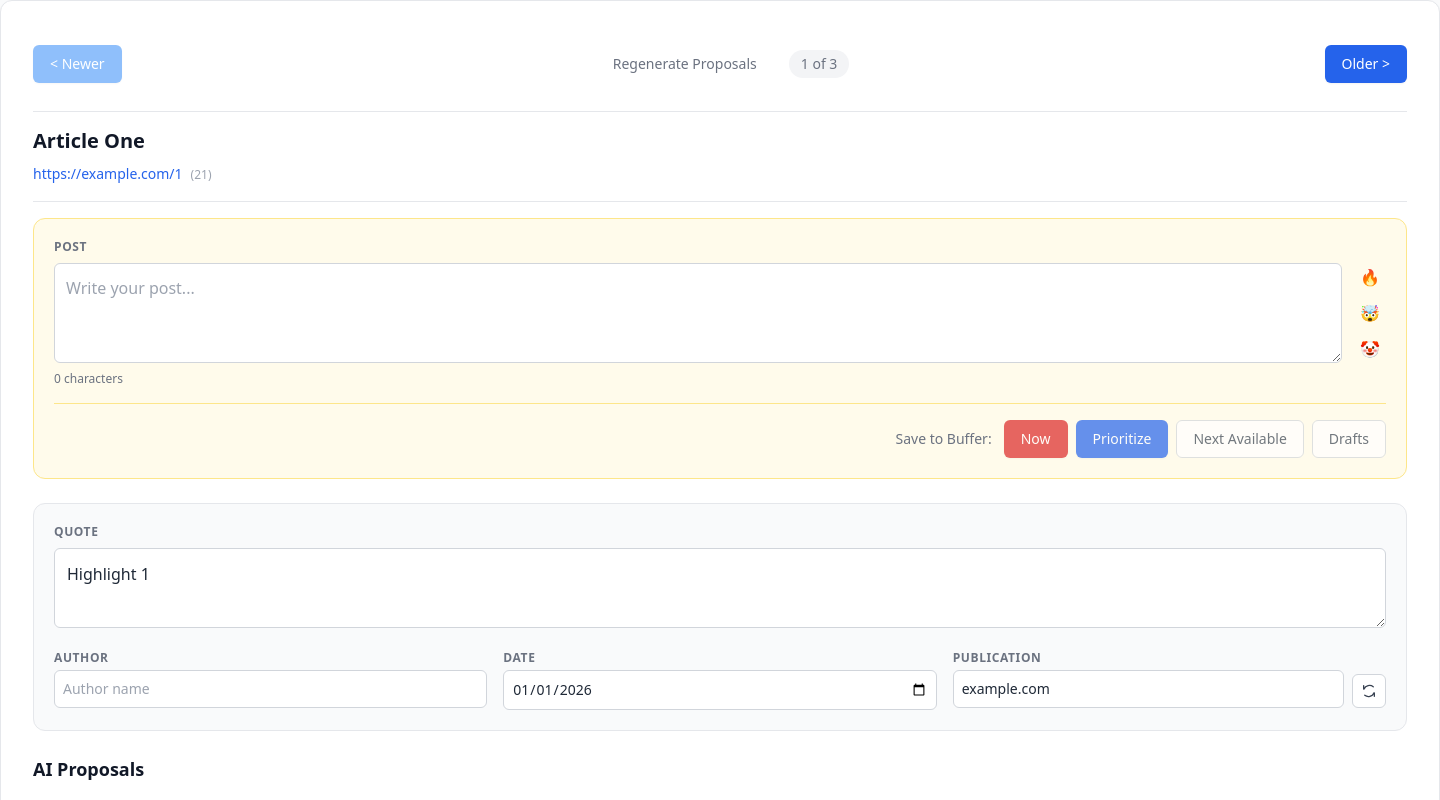
Scenario: PostPage — scaffold + navigation › advances to next article when Older is clicked
Expected: the heading "Article One" is shown, [33,127,145,154]
Step 1. Click the button "Older >" → (1366, 64), box [1324,45,1407,83]
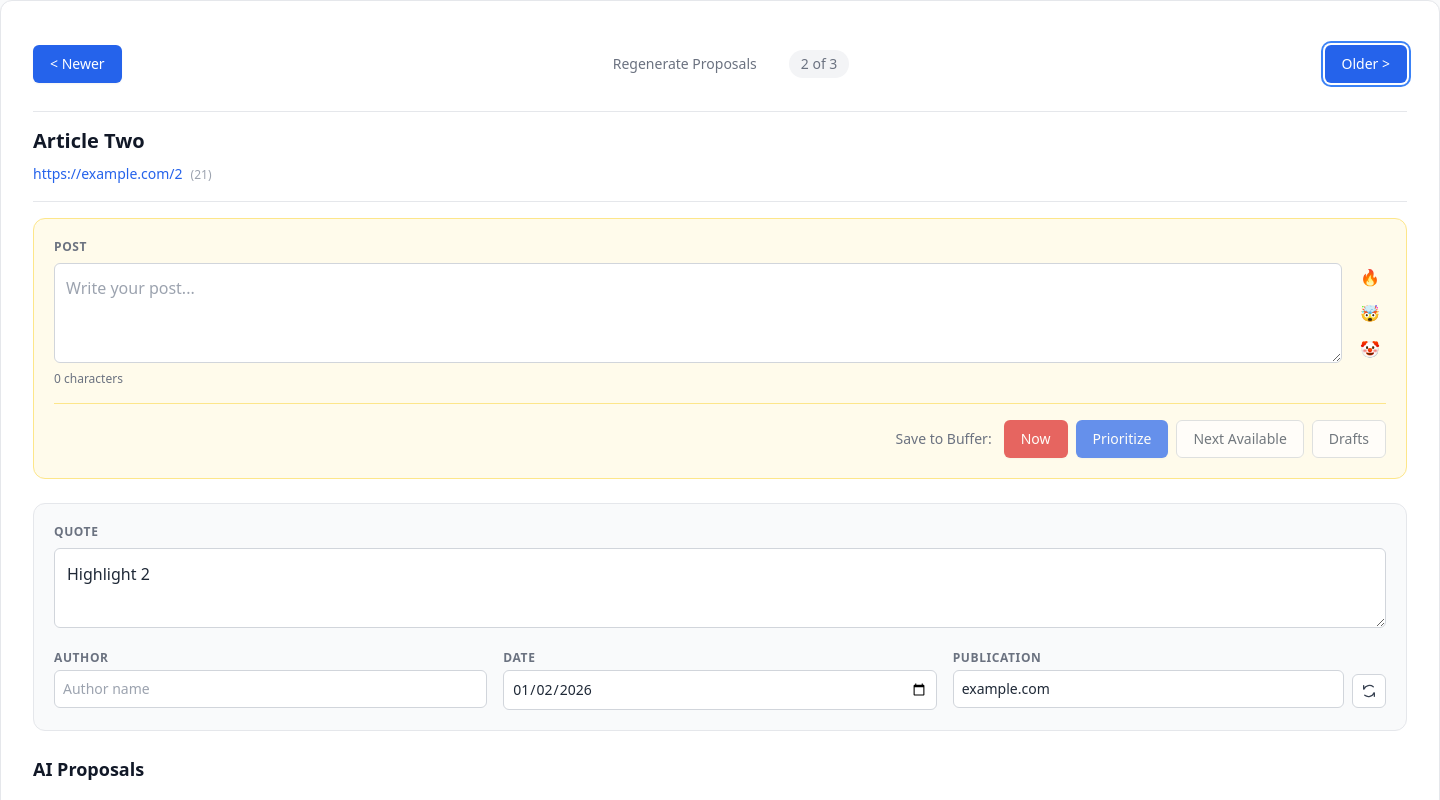
Result: the heading "Article Two" is shown at [33,127,145,154]
